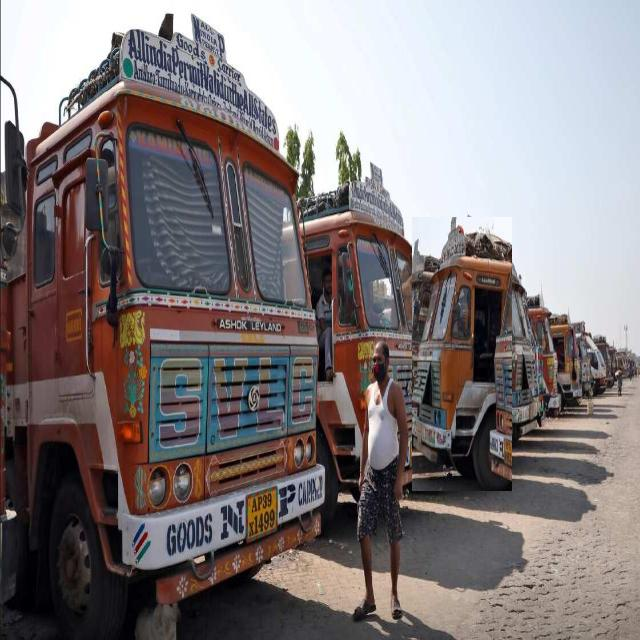truck: (0, 18, 325, 637), (300, 162, 435, 524), (412, 217, 512, 491)
